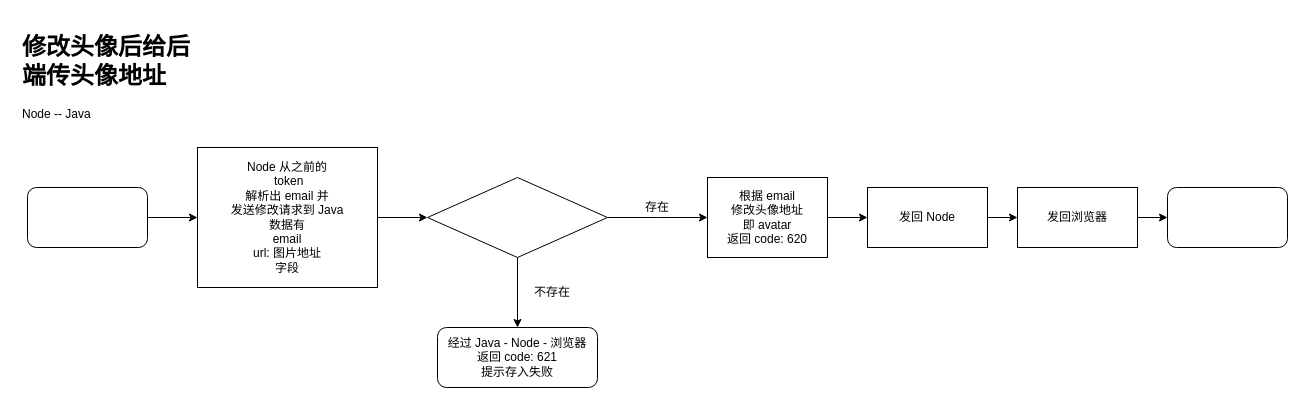
Image size: 1305x405. Some labels were removed from this diagram. Each missing label, with the box of its shape:
Node 进行 头像上传之后: (26, 186, 148, 248)
用户是否存在 之类的错误: (426, 176, 608, 258)
返回 code: 620 验证成功 修改完毕: (1166, 186, 1288, 248)
